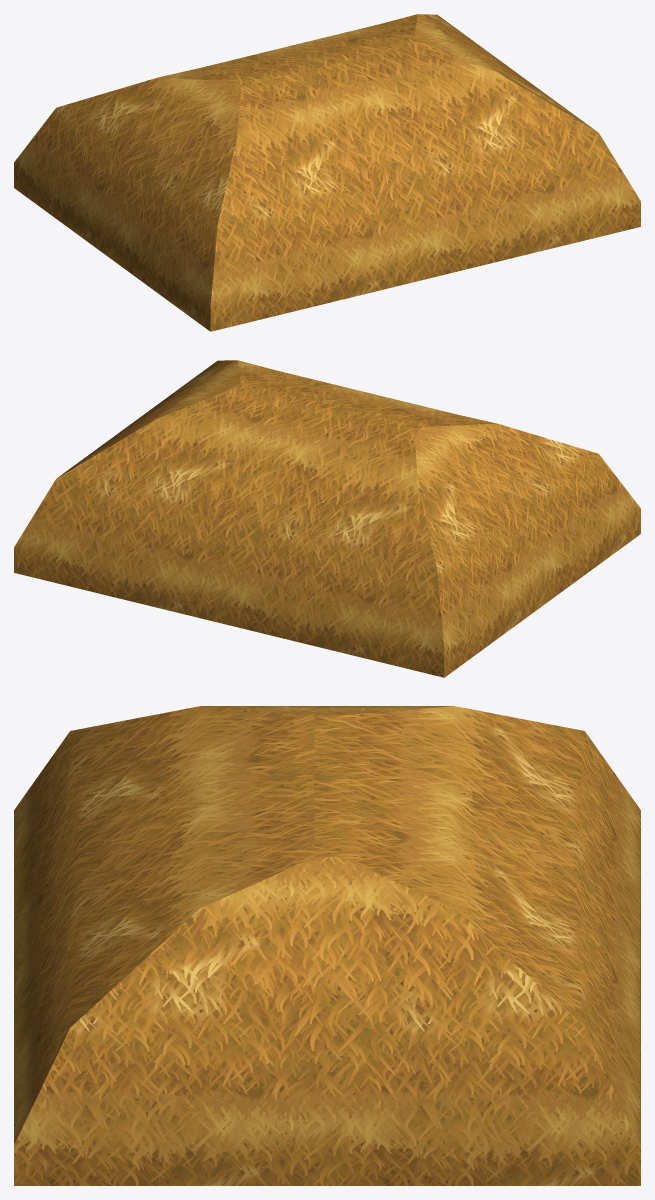
The model's file is RecBaseHouserRoof_01.fbx.
The picture shows the model from 3 angles, top to bottom: view 1: azimuth 30°, elevation 25°; view 2: azimuth 150°, elevation 25°; view 3: azimuth 270°, elevation 25°; orthographic projection. The views are drawn at different scales.
Parts seen in each view (by area): view 1: Cube.056; view 2: Cube.056; view 3: Cube.056.
Boxes of the visible parts, <box> form: Cube.056: <box>14,14,640,331</box>; Cube.056: <box>14,360,640,677</box>; Cube.056: <box>14,706,640,1185</box>.
Bounding box in the file's own units: 33.13 × 10.71 × 26.2.
